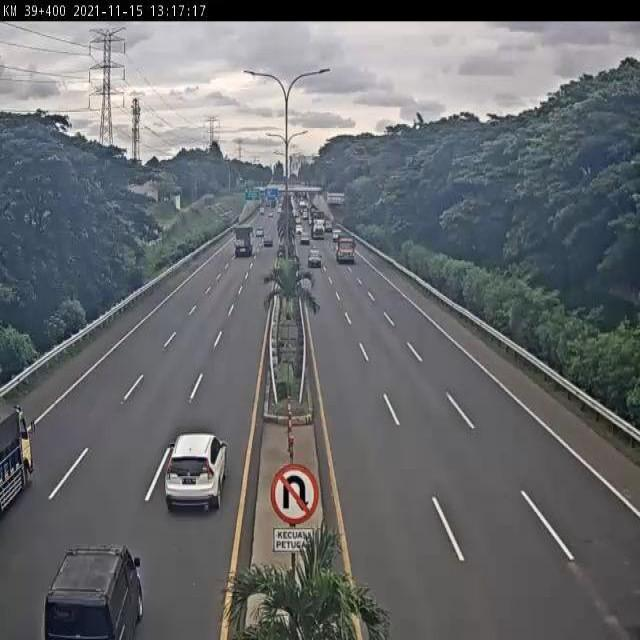big truck: (332, 229, 358, 264)
car: (161, 433, 230, 516), (306, 247, 323, 272)
